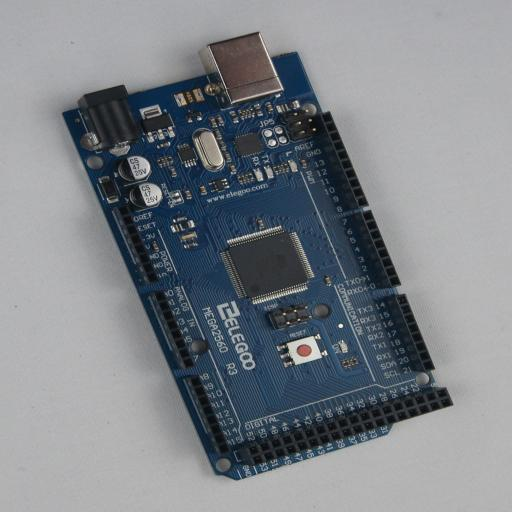Arduino Mega 2560 -Blue-: (62, 32, 453, 480)
